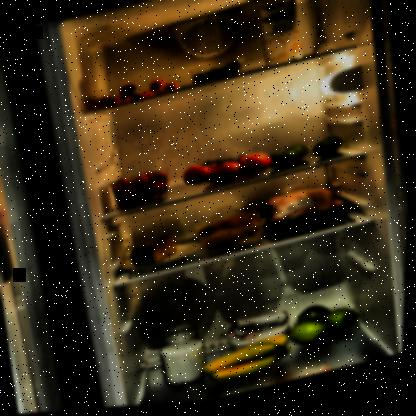apple: (285, 294, 365, 355)
banana: (199, 335, 298, 392)
blueberries: (187, 59, 249, 89)
carrot: (93, 70, 187, 112)
cheese: (129, 232, 184, 272)
chicken: (258, 182, 354, 240)
lime: (265, 137, 347, 177)
milk: (255, 0, 307, 73)
potato: (195, 208, 269, 260)
strawberries: (107, 167, 176, 219)
tomato: (181, 147, 277, 198)
